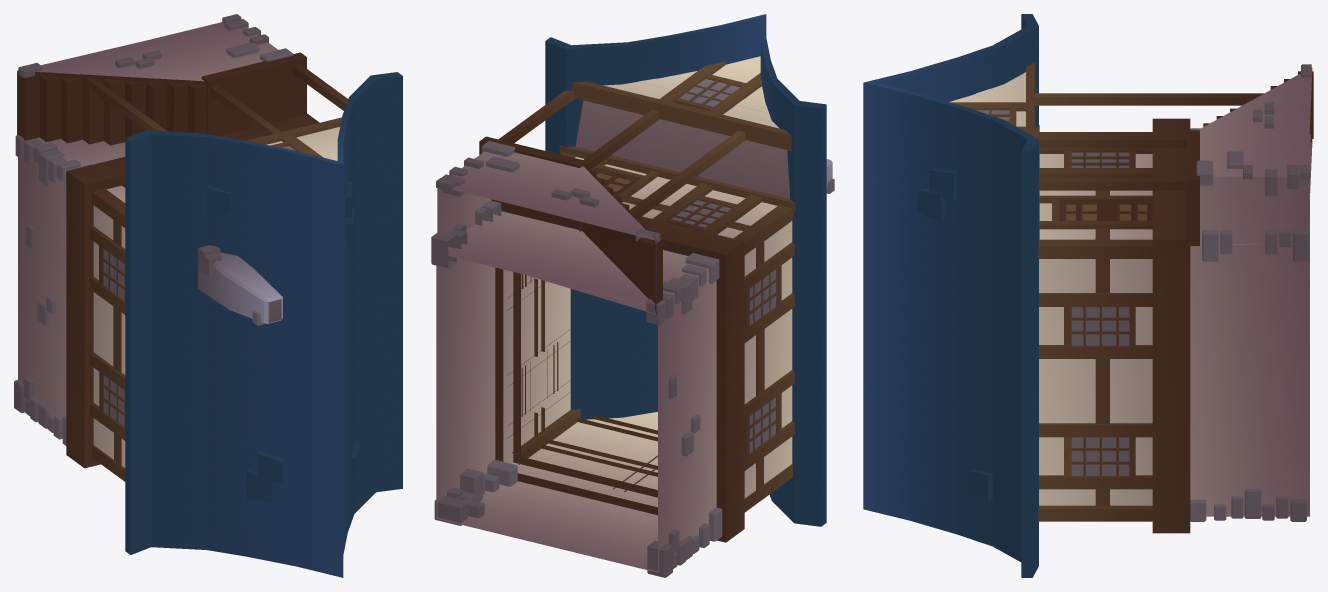
File: house.glb
The picture shows the model from 3 angles, left to right: view 1: azimuth 30°, elevation 25°; view 2: azimuth 150°, elevation 25°; view 3: azimuth 270°, elevation 25°; orthographic projection. The views are drawn at different scales.
Visible parts, largest first — view 1: House_Material #149_0; view 2: House_Material #149_0; view 3: House_Material #149_0.
Part boxes in pixels (x1=…): House_Material #149_0: x1=14, y1=14, x2=402, y2=577; House_Material #149_0: x1=431, y1=14, x2=834, y2=577; House_Material #149_0: x1=863, y1=14, x2=1313, y2=577.
Bounding box in the file's own units: 209 × 303 × 290.
1 material, 1 textured.
